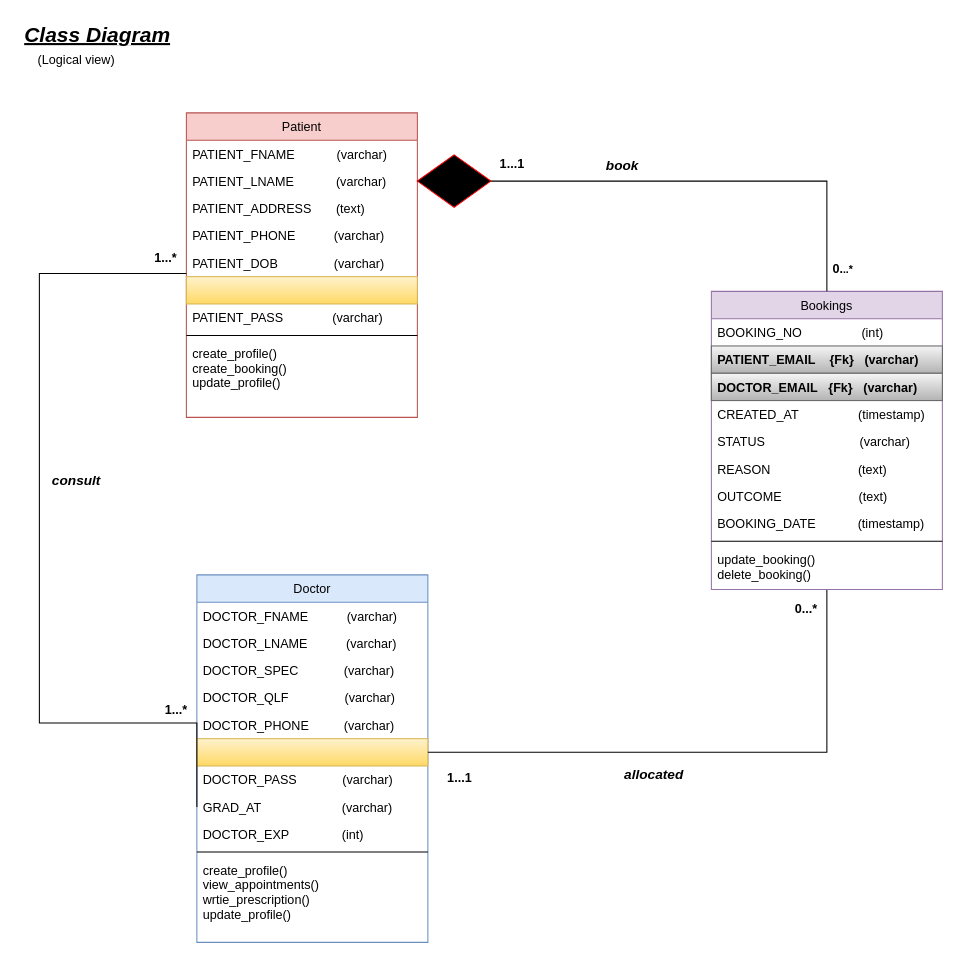
This 961x963 diagram has some shape labels left out. Here are the shapes that lost their labels. From the top down, the centre of each, then its label:
At point (301, 290): "PATIENT_EMAIL {Pk} (varchar)".
At point (312, 752): "DOCTOR_EMAIL {Pk} (varchar)".
